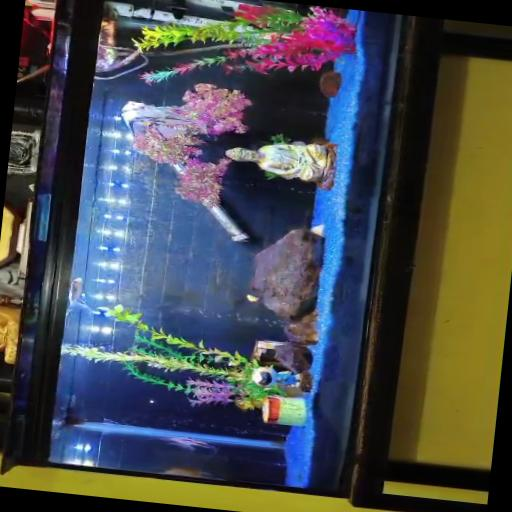Fish: (122, 101, 218, 136), (66, 277, 93, 314), (162, 466, 225, 479), (160, 437, 218, 450), (162, 466, 207, 477)
